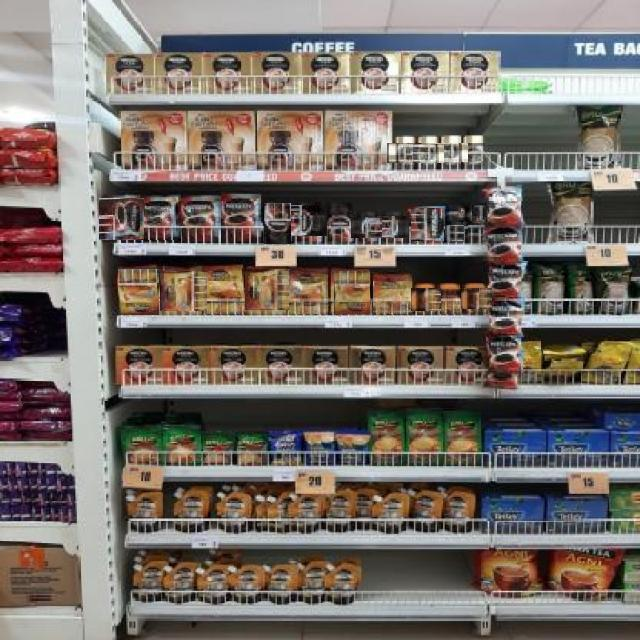Coffee: (203, 268, 245, 315), (98, 198, 144, 240), (243, 269, 290, 310), (160, 270, 207, 311), (118, 268, 159, 315), (180, 197, 221, 243), (222, 195, 260, 242), (140, 196, 177, 240), (333, 270, 370, 314), (290, 270, 327, 314), (374, 275, 411, 315), (324, 200, 354, 244), (285, 206, 327, 236), (264, 202, 291, 244), (410, 209, 444, 241), (438, 283, 463, 314), (462, 136, 484, 170), (387, 142, 422, 163), (411, 287, 441, 311), (377, 216, 409, 238), (352, 216, 382, 238), (462, 287, 492, 309), (411, 144, 444, 163), (434, 144, 468, 162), (446, 224, 464, 242), (468, 224, 487, 241), (446, 208, 466, 223), (472, 206, 487, 224)
